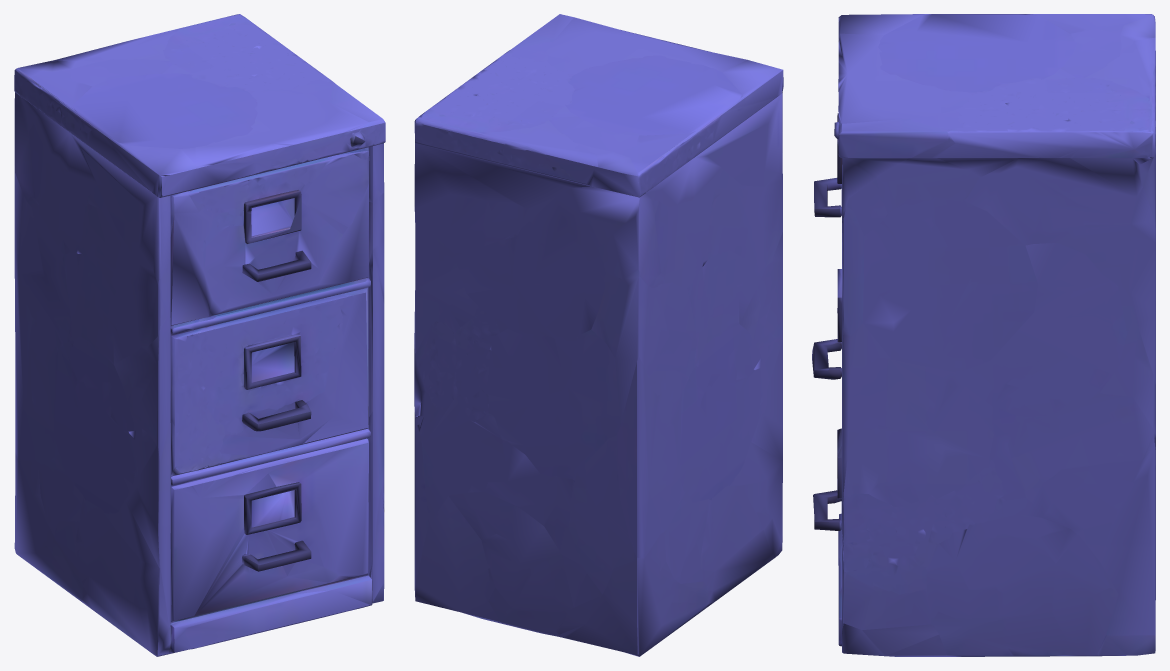
Rendered from model.progressive.glb.
The picture shows the model from 3 angles, left to right: view 1: azimuth 30°, elevation 25°; view 2: azimuth 150°, elevation 25°; view 3: azimuth 270°, elevation 25°; orthographic projection. The views are drawn at different scales.
Parts seen in each view (by area): view 1: FillingCabinet8; view 2: FillingCabinet8; view 3: FillingCabinet8.
Part boxes in pixels (x1,y1,x2,y2): FillingCabinet8: (14,14,385,656); FillingCabinet8: (414,14,783,656); FillingCabinet8: (812,14,1155,656).
Bounding box in the file's own units: 0.4681 × 0.9592 × 0.5684.
1 material, 1 textured.
